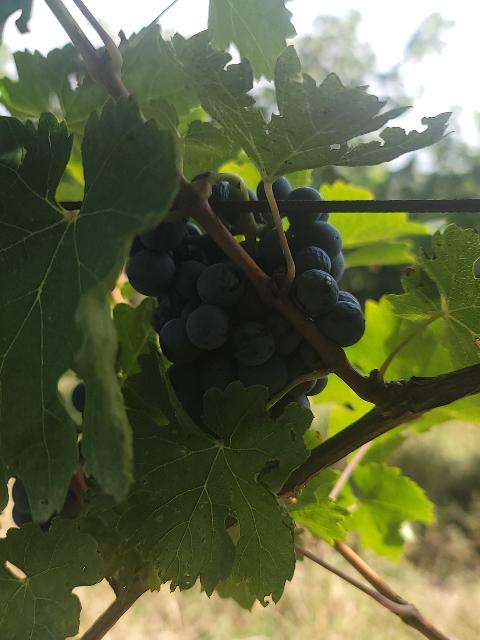grapes: (126, 220, 320, 420), (286, 211, 365, 348), (249, 218, 286, 284), (271, 378, 328, 415), (274, 179, 322, 201), (210, 181, 238, 200)
